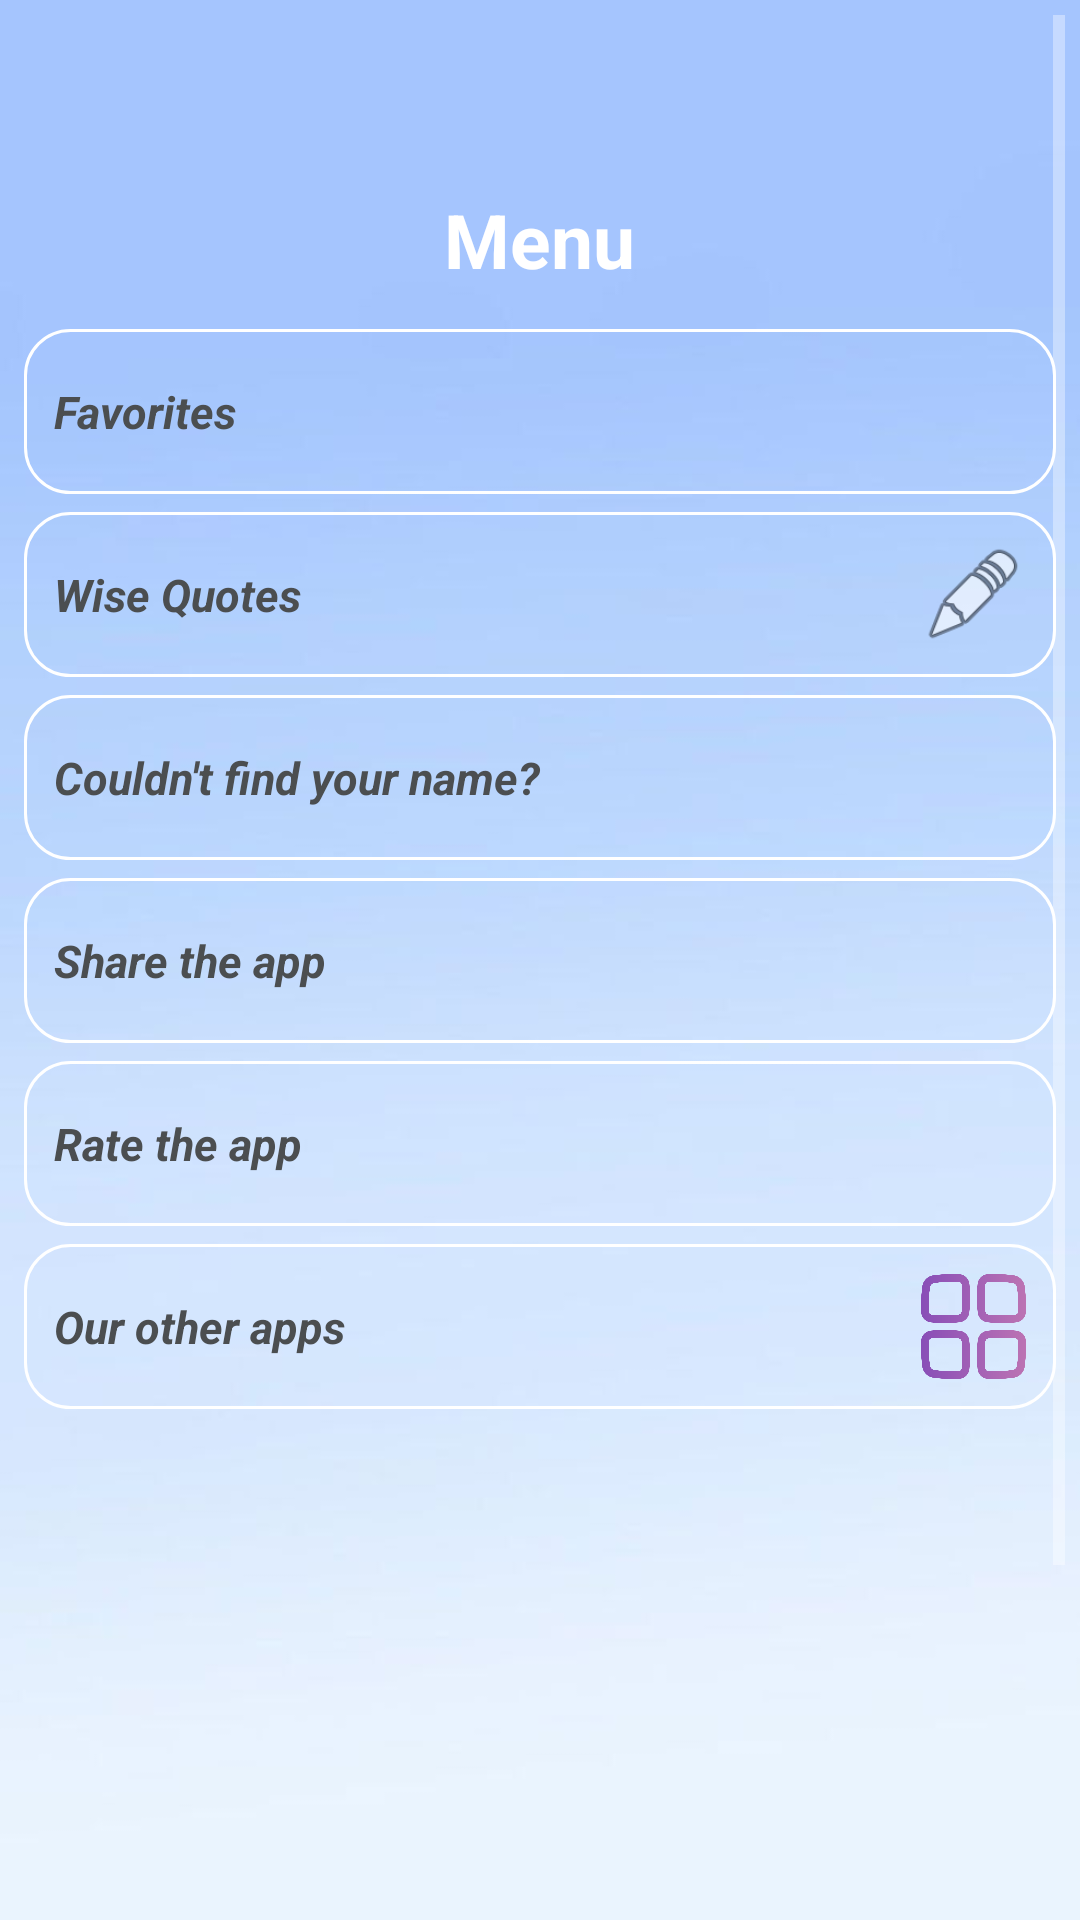

Icon click points for this 1080 x 1920 phone screenshot, format (x,y):
edit: (973,593)
